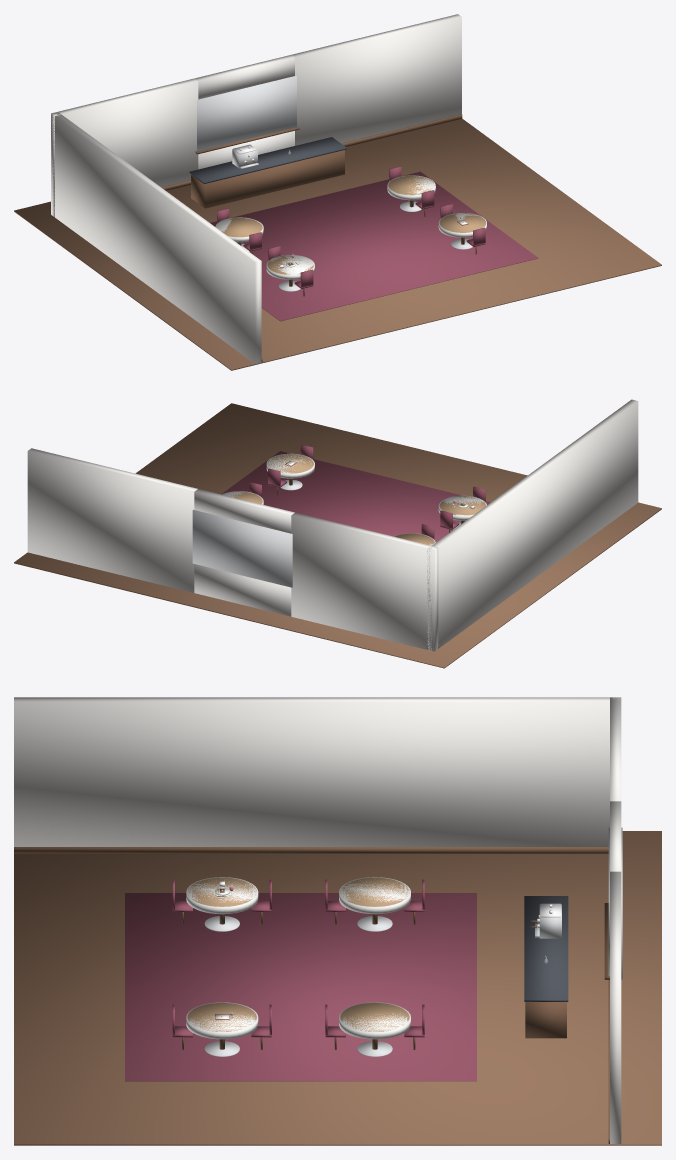
The model's file is restaurant.glb.
3 renders of one model, top to bottom at view 1: azimuth 30°, elevation 25°; view 2: azimuth 150°, elevation 25°; view 3: azimuth 270°, elevation 25°, orthographic. The views are drawn at different scales.
Parts seen in each view (by area): view 1: Restaurant_Diorama, Bar_Credenza, Dining_Table, Espresso_Machine; view 2: Restaurant_Diorama, Dining_Table; view 3: Restaurant_Diorama, Dining_Table, Bar_Credenza, Espresso_Machine.
Boxes of the visible parts, bbox=[...] form: Restaurant_Diorama: bbox=[14, 14, 661, 370]; Bar_Credenza: bbox=[189, 137, 346, 208]; Dining_Table: bbox=[215, 166, 486, 296]; Espresso_Machine: bbox=[232, 144, 258, 168]; Restaurant_Diorama: bbox=[14, 399, 661, 668]; Dining_Table: bbox=[222, 444, 486, 545]; Restaurant_Diorama: bbox=[14, 697, 661, 1145]; Dining_Table: bbox=[172, 877, 424, 1056]; Bar_Credenza: bbox=[524, 896, 568, 1038]; Espresso_Machine: bbox=[530, 903, 561, 938].
Bounding box in the file's own units: 16 × 3.64 × 14.
